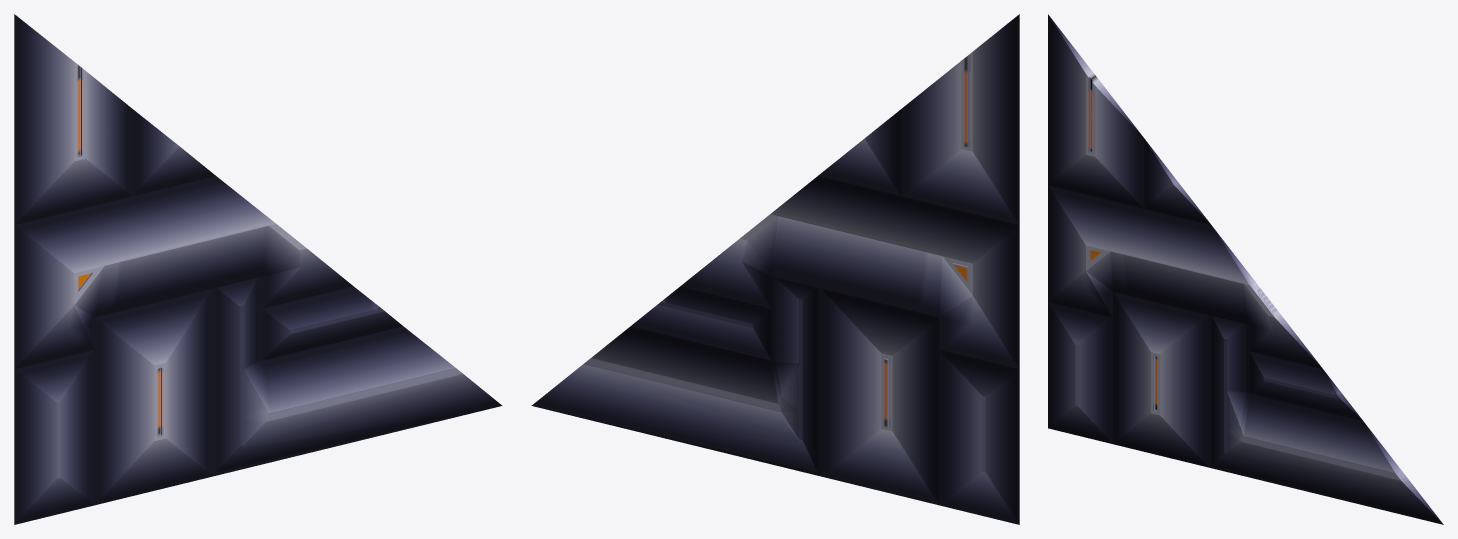
File: reac4_1_slice45lh.fbx
The picture shows the model from 3 angles, left to right: view 1: azimuth 30°, elevation 25°; view 2: azimuth 150°, elevation 25°; view 3: azimuth 330°, elevation 25°; orthographic projection. The views are drawn at different scales.
Visible parts, largest first — view 1: reac4_1_mesh; view 2: reac4_1_mesh; view 3: reac4_1_mesh.
Part boxes in pixels (<box>): reac4_1_mesh: <box>14,14,502,524</box>; reac4_1_mesh: <box>531,14,1019,524</box>; reac4_1_mesh: <box>1048,14,1443,524</box>.
Bounding box in the file's own units: 256 × 256 × 6.
